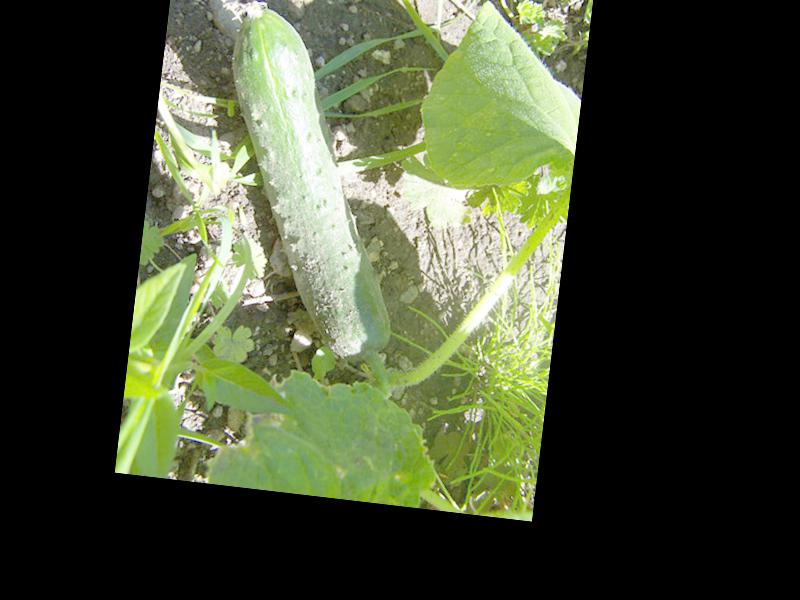Cucumber: (198, 0, 427, 368)
